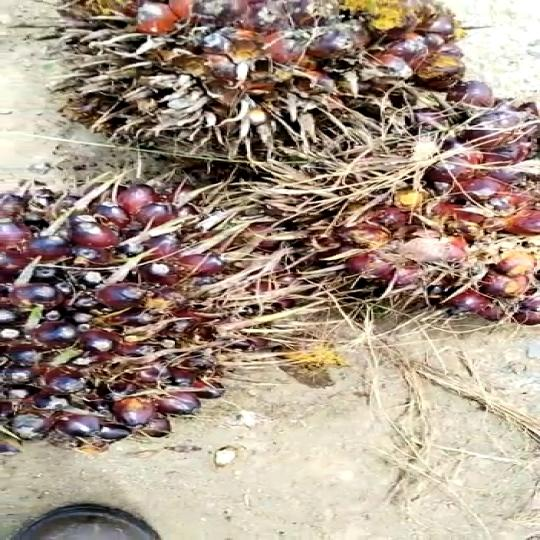masak: (32, 0, 507, 170), (0, 174, 282, 454)
